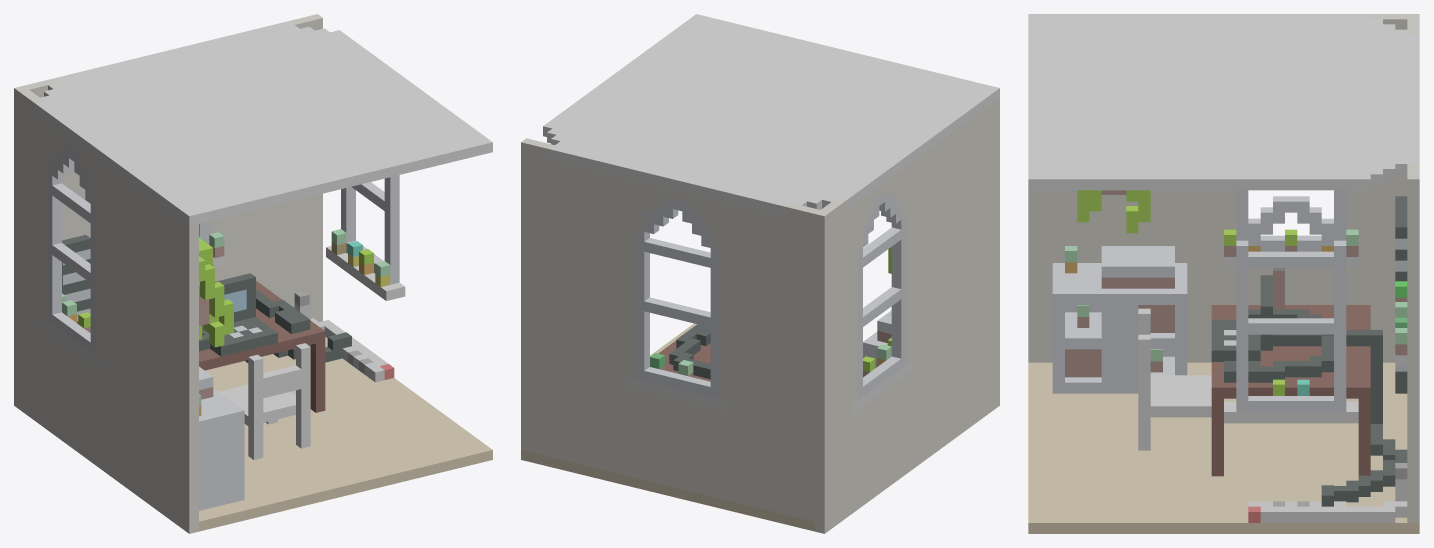
Rendered from room.gltf.
3 views of the same model, side by side, from view 1: azimuth 30°, elevation 25°; view 2: azimuth 150°, elevation 25°; view 3: azimuth 270°, elevation 25° (orthographic). The views are drawn at different scales.
Bounding box in the file's own units: 32 × 32 × 32.
